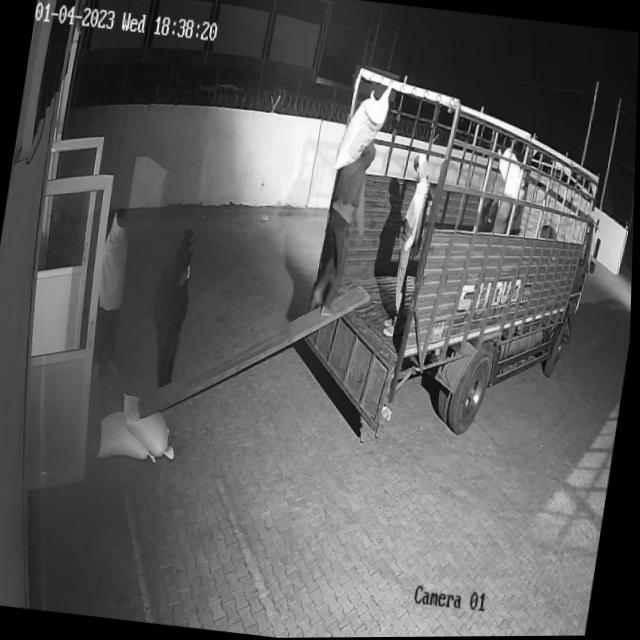sack: (332, 79, 392, 174), (116, 390, 185, 460), (97, 407, 164, 462)
